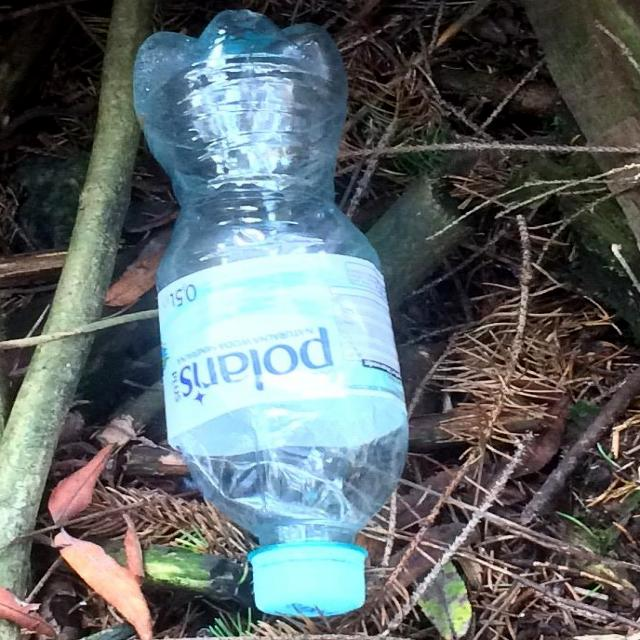Plastic: (126, 6, 414, 620)
